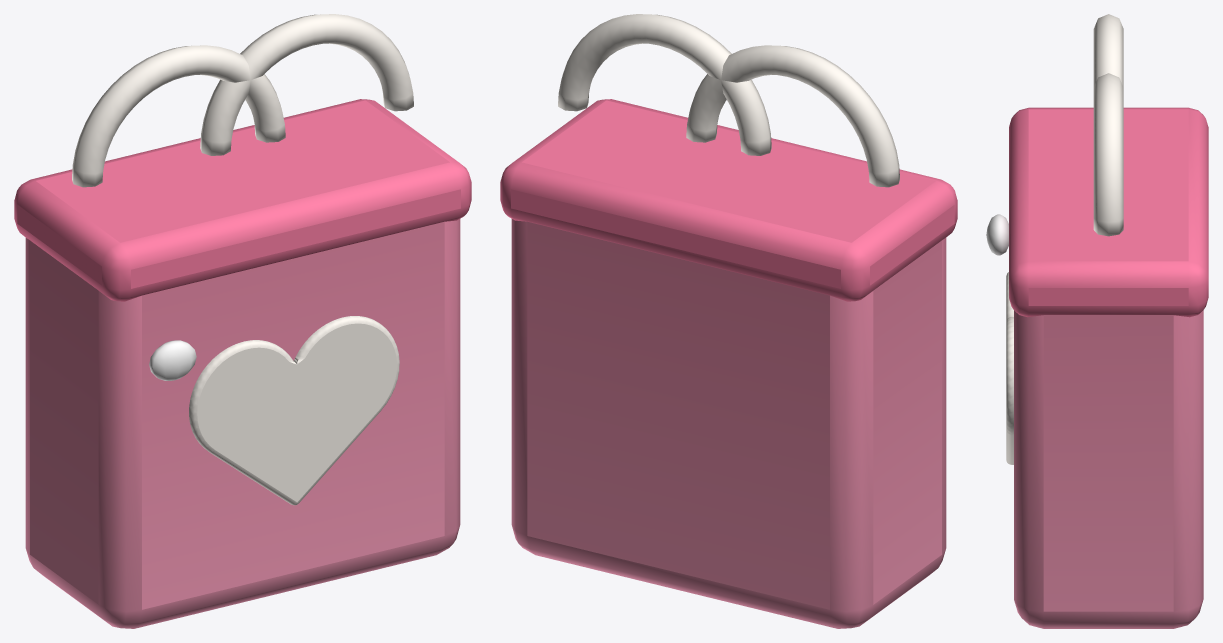
File: shopbag.glb
3 views of the same model, side by side, from view 1: azimuth 30°, elevation 25°; view 2: azimuth 150°, elevation 25°; view 3: azimuth 270°, elevation 25° (orthographic). The views are drawn at different scales.
Parts seen in each view (by area): view 1: bag, fold, cfffaf3, shine; view 2: bag, fold, cfffaf3; view 3: bag, fold, cfffaf3, shine.
Part boxes in pixels (x1,y1,x2,y2): bag: [25, 219, 460, 628]; fold: [14, 99, 471, 301]; cfffaf3: [72, 14, 413, 505]; shine: [149, 340, 196, 380]; bag: [511, 219, 946, 628]; fold: [500, 99, 957, 301]; cfffaf3: [558, 14, 899, 187]; bag: [1014, 310, 1203, 628]; fold: [1009, 107, 1208, 317]; cfffaf3: [1006, 14, 1123, 464]; shine: [986, 214, 1008, 255].
Bounding box in the file's own units: 0.8 × 1.11 × 0.445.
